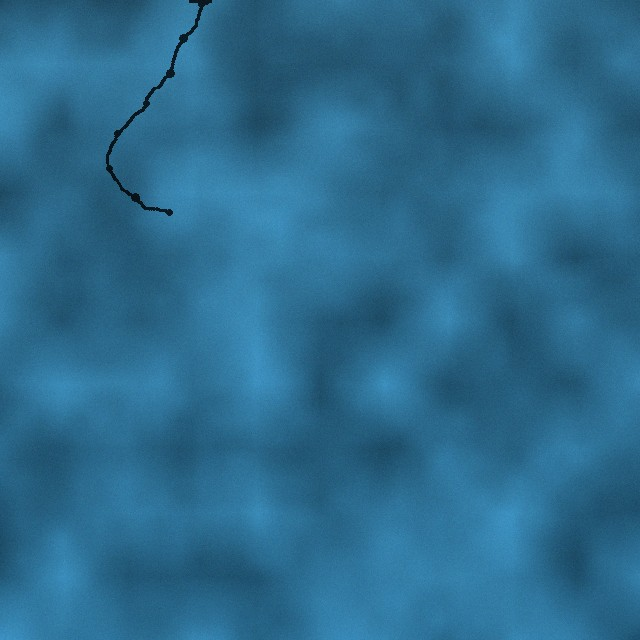crack: (102, 0, 216, 217)
